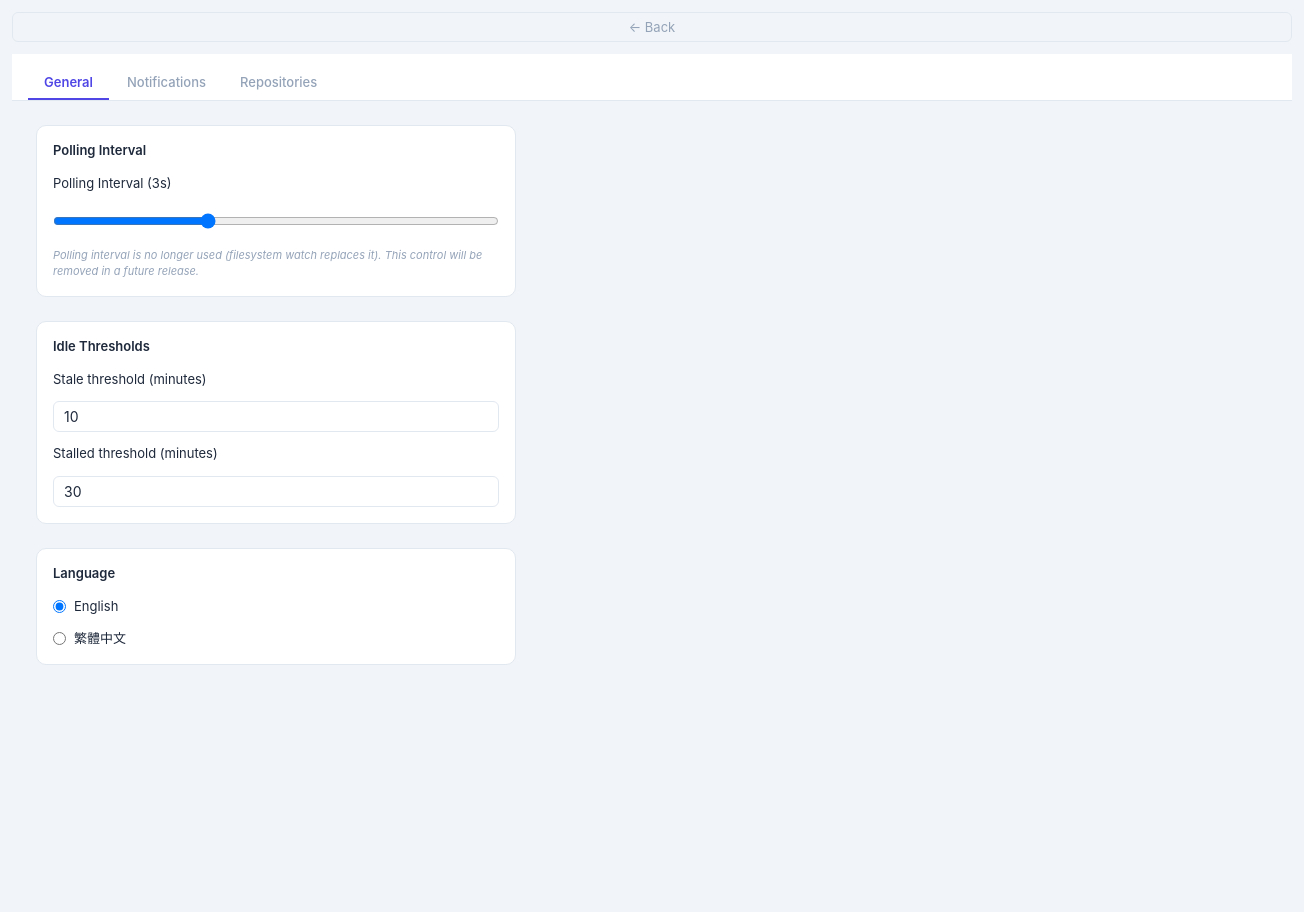
it: Settings — Notifications tab (AC6.d) › shows a notifications toggle
Click the tab "Notifications" at (166, 83), box x1=111 y1=66 x2=222 y2=100
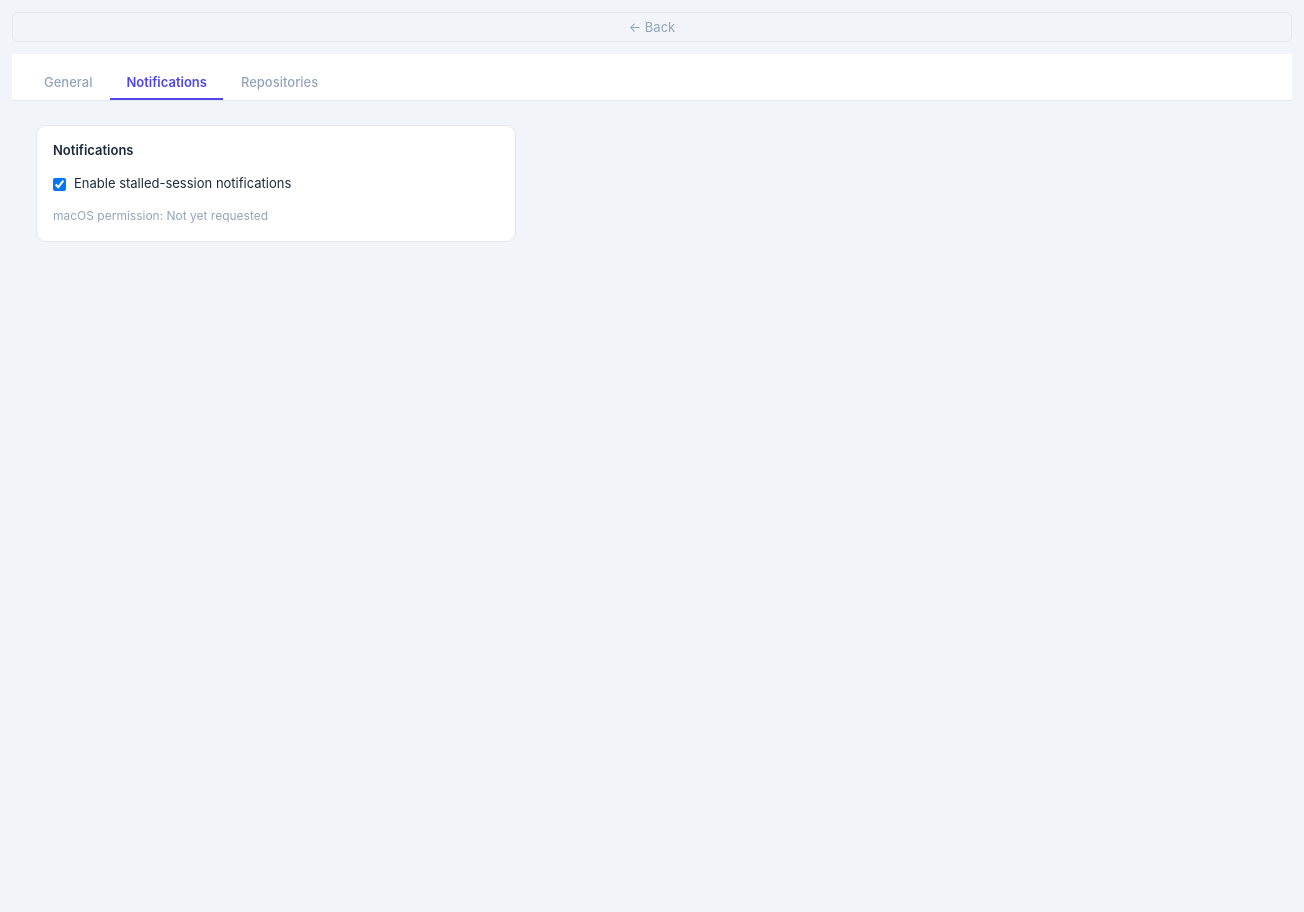
Expected: the checkbox labelled "Enable stalled-session notifications" is shown, x1=53 y1=178 x2=66 y2=190
